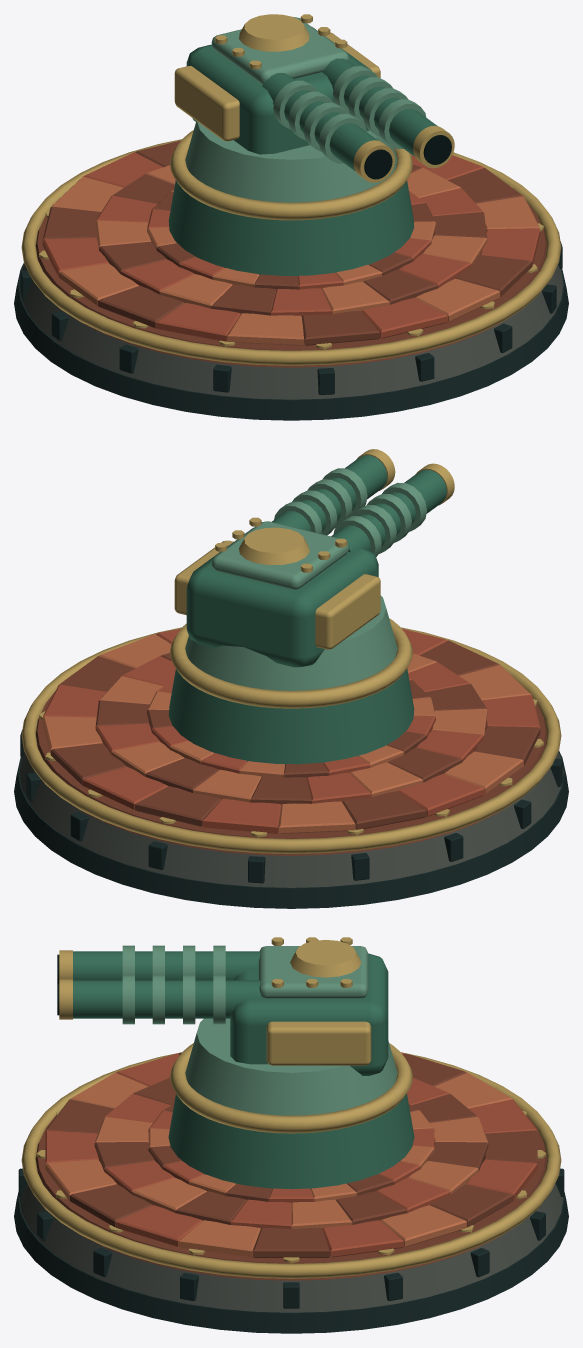
File: warrior-1.glb
3 renders of one model, top to bottom at view 1: azimuth 30°, elevation 25°; view 2: azimuth 150°, elevation 25°; view 3: azimuth 270°, elevation 25°, orthographic.
Visible parts, largest first — view 1: warrior-1, turret-yaw, barrels-recoil; view 2: warrior-1, turret-yaw, barrels-recoil; view 3: warrior-1, turret-yaw, barrels-recoil.
Boxes of the visible parts, bbox=[...] form: warrior-1: bbox=[14, 130, 568, 420]; turret-yaw: bbox=[174, 14, 397, 202]; barrels-recoil: bbox=[262, 58, 454, 182]; warrior-1: bbox=[14, 618, 568, 908]; turret-yaw: bbox=[174, 517, 397, 690]; barrels-recoil: bbox=[272, 449, 454, 556]; warrior-1: bbox=[14, 1043, 568, 1333]; turret-yaw: bbox=[185, 937, 397, 1115]; barrels-recoil: bbox=[57, 945, 261, 1024].
Size of the model in its own units: 0.8888 by 0.4664 by 0.8888.
